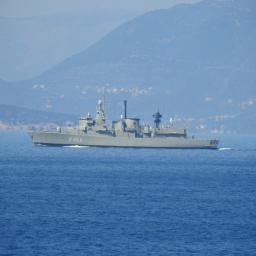Fragata: (28, 97, 223, 153)
